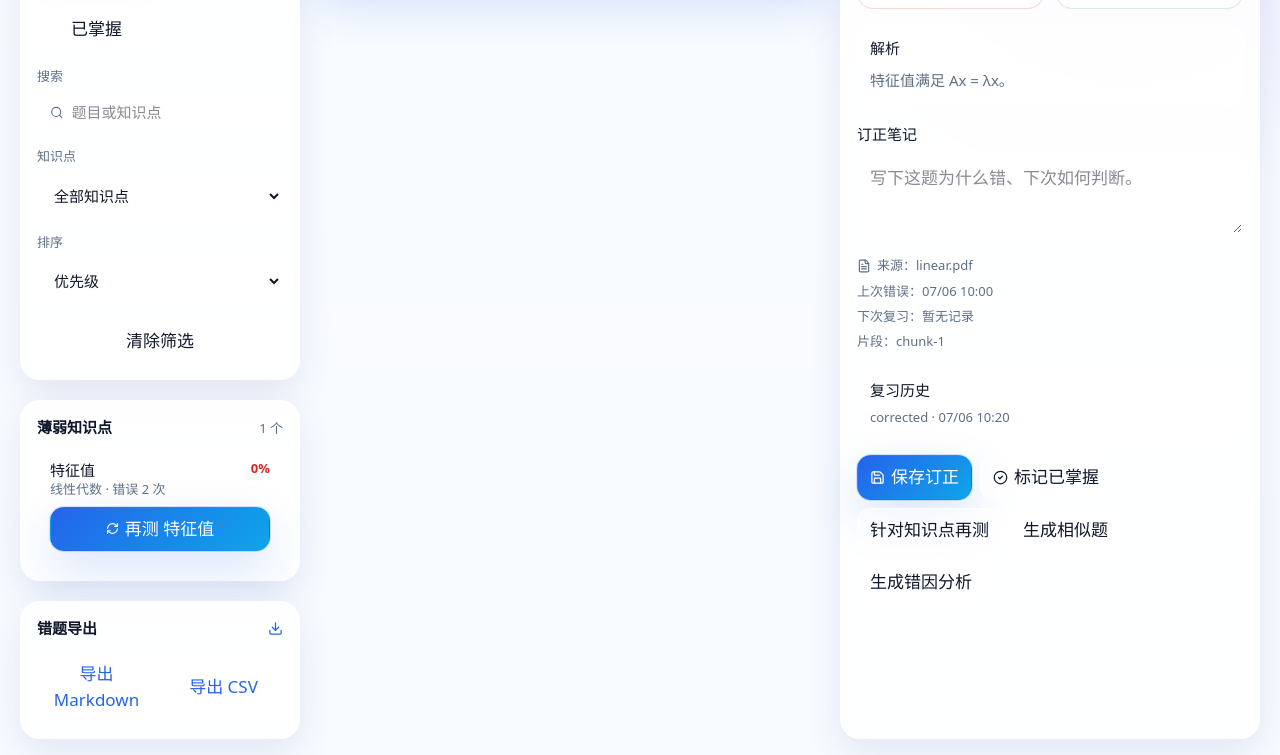
Test: ReviewWorkbench › exports mistakes as markdown
(page scrolled)
Step 1. Click the button "导出 Markdown" → (96, 687), box [37,651,156,722]
(page scrolled)
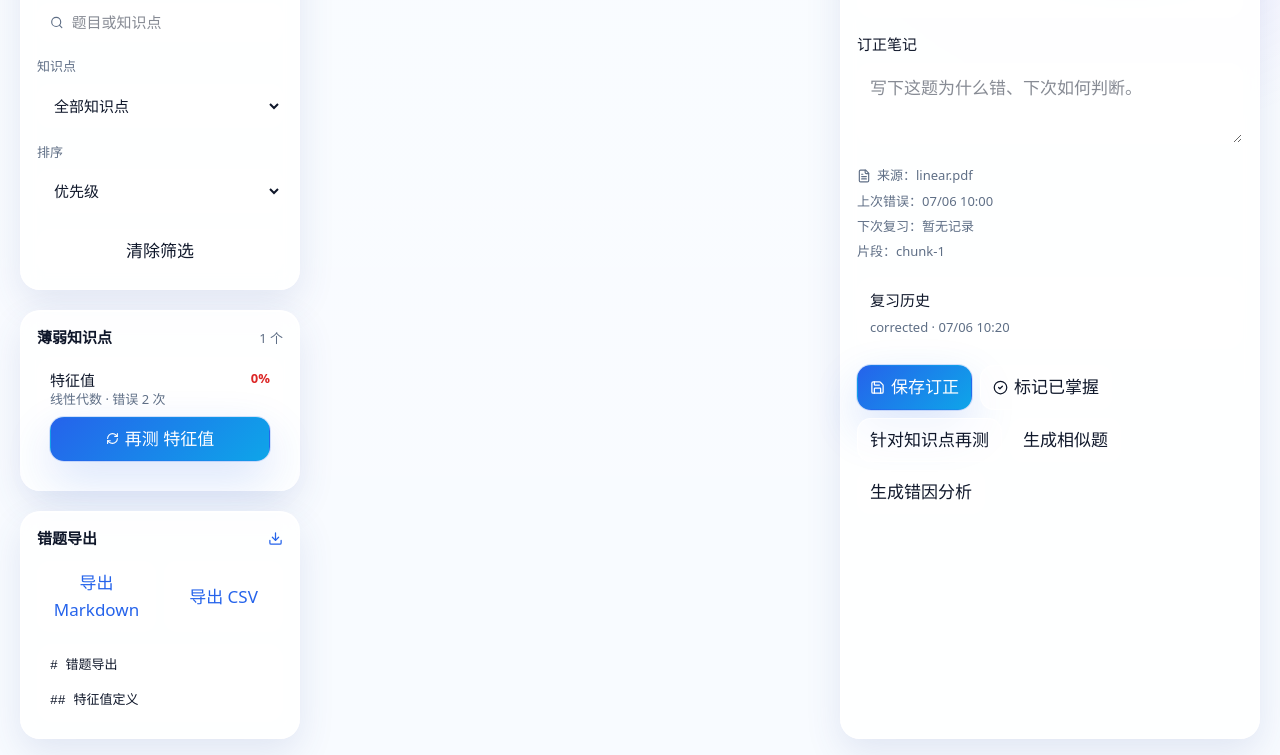
Now the text "# 错题导出 ## 特征值定义" is shown, box [37,644,283,722]
